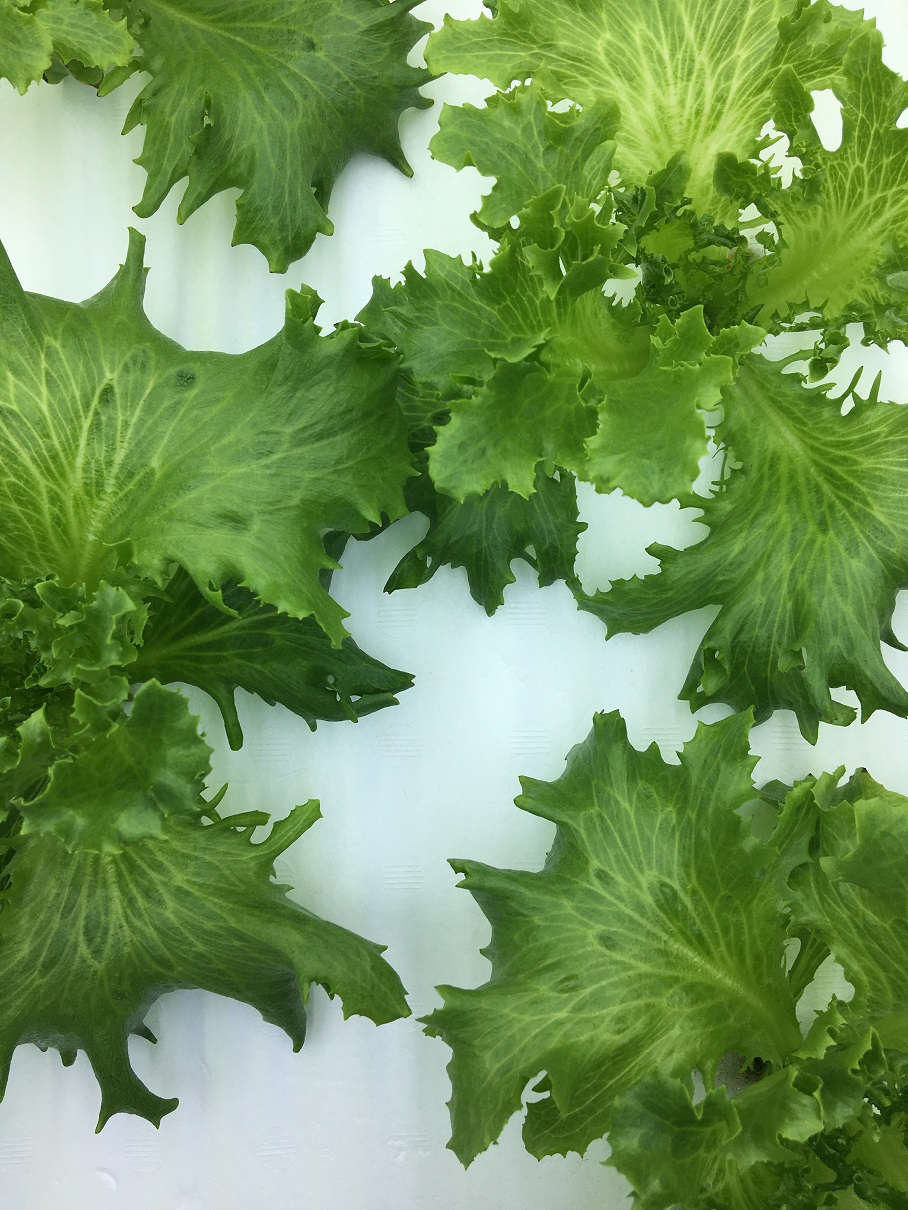tipburn: (854, 762, 875, 781), (127, 199, 145, 221), (87, 75, 108, 93), (39, 72, 56, 93), (91, 89, 108, 105)
